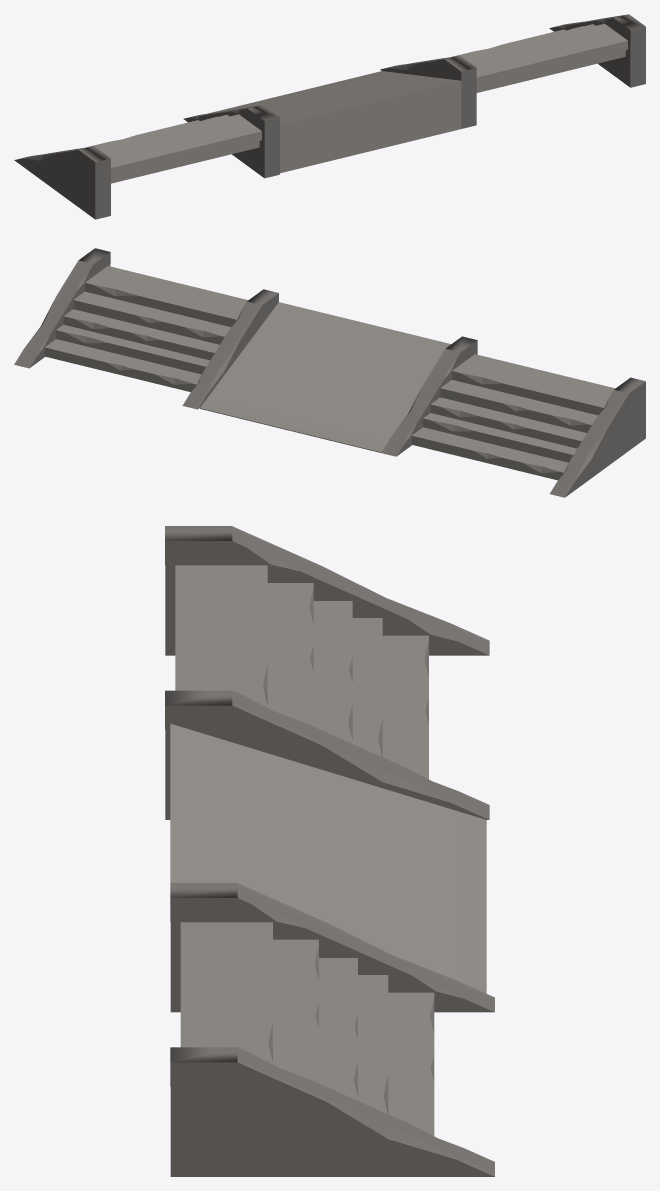
Rendered from SM_Env_Stair_07.fbx.
3 views of the same model, one above another, from view 1: azimuth 30°, elevation 25°; view 2: azimuth 150°, elevation 25°; view 3: azimuth 270°, elevation 25° (orthographic). The views are drawn at different scales.
Visible parts, largest first — view 1: SM_Env_Stair_07; view 2: SM_Env_Stair_07; view 3: SM_Env_Stair_07.
Part boxes in pixels (left/top/right/bottom): SM_Env_Stair_07: left=14, top=14, right=645, bottom=219; SM_Env_Stair_07: left=14, top=248, right=645, bottom=497; SM_Env_Stair_07: left=165, top=526, right=494, bottom=1176.
Bounding box in the file's own units: 321 × 32.41 × 83.57.
Materials: 1 (1 with a texture image).
